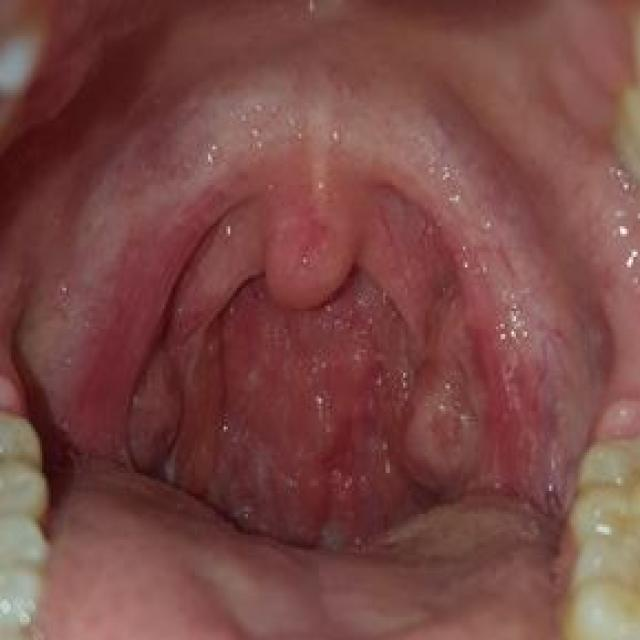Non Pharyngitis: (408, 213, 627, 532), (106, 196, 284, 460)
